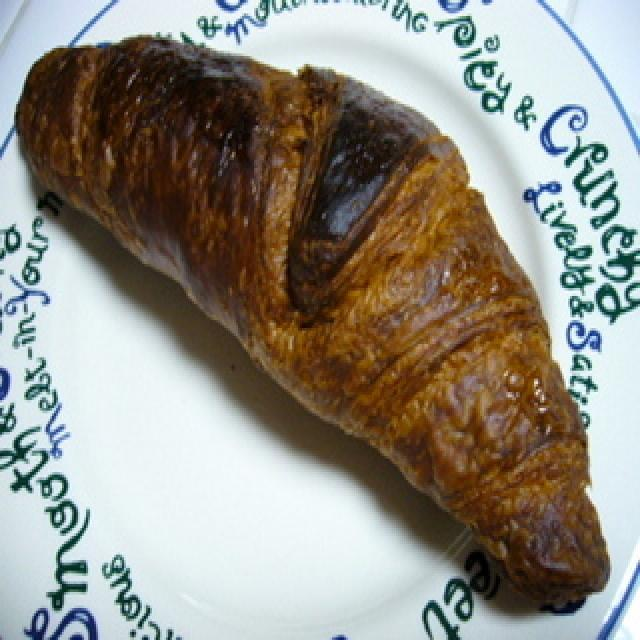Croissant: (20, 29, 612, 607)
